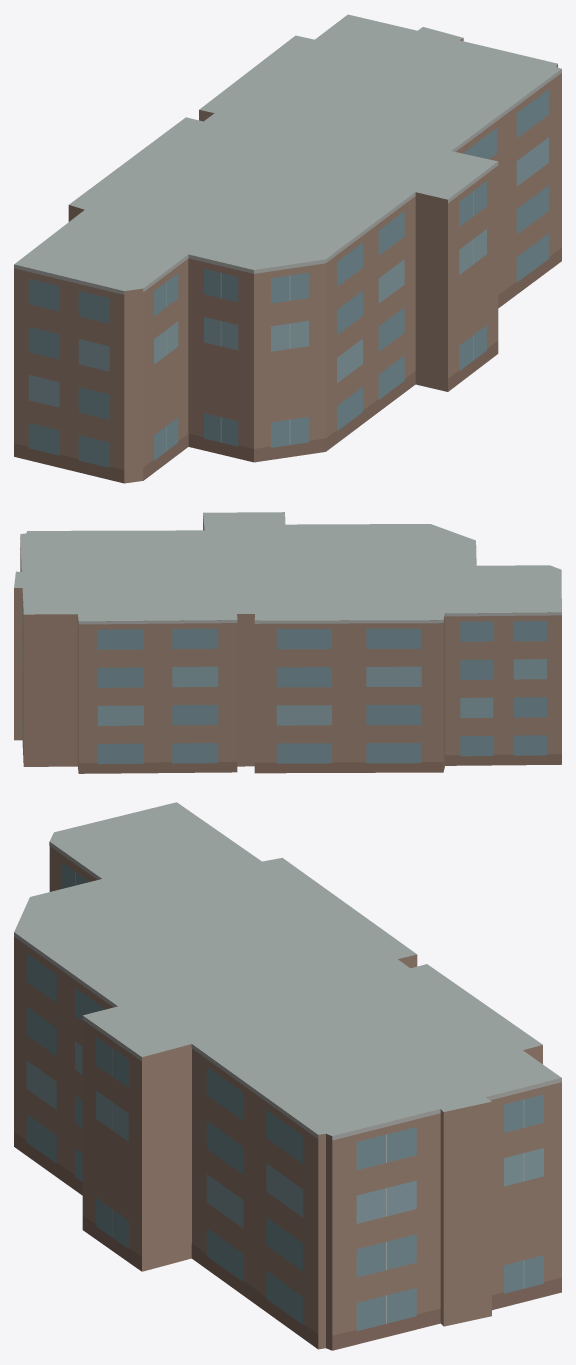
Rendered from survey-upis-32866302.glb.
3 renders of one model, top to bottom at view 1: azimuth 30°, elevation 25°; view 2: azimuth 150°, elevation 25°; view 3: azimuth 270°, elevation 25°, orthographic. The views are drawn at different scales.
Parts seen in each view (by area): view 1: survey-upis-32866302.tmp; view 2: survey-upis-32866302.tmp; view 3: survey-upis-32866302.tmp.
Boxes of the visible parts, box(x1,y1,x2,y2) form: survey-upis-32866302.tmp: box(14, 14, 561, 483); survey-upis-32866302.tmp: box(14, 512, 561, 773); survey-upis-32866302.tmp: box(14, 802, 561, 1350).
Bounding box in the file's own units: 40.74 × 12.2 × 28.24.
